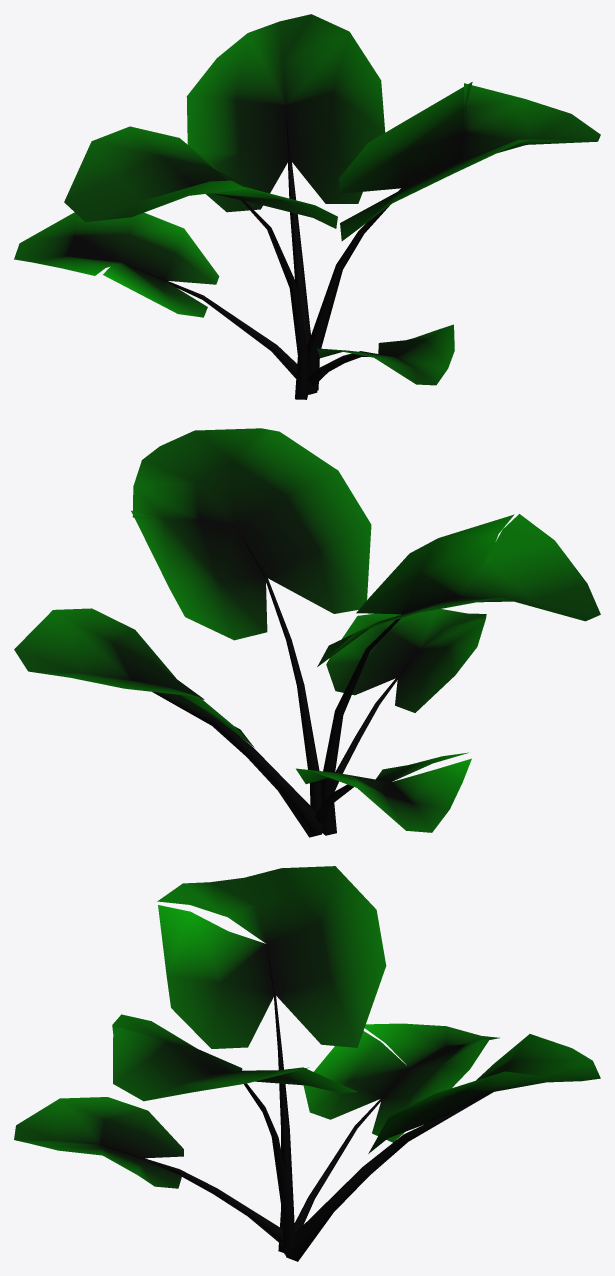
File: Alocasia02_afsTREE_xlprl08_xlod01.fbx
3 renders of one model, top to bottom at view 1: azimuth 30°, elevation 25°; view 2: azimuth 150°, elevation 25°; view 3: azimuth 270°, elevation 25°, orthographic. The views are drawn at different scales.
Parts seen in each view (by area): view 1: alocasia_xw02_xt03_xlp02_xp06.001, trunk_xw06_xt05_xlp05_xp07, alocasia_xw04_xt05_xlp04, alocasia_xw03_xt04_xlp02_xp10, alocasia_xw02_xt03_xlp02_xp06; view 2: trunk_xw06_xt05_xlp05_xp07, alocasia_xw04_xt05_xlp04, alocasia_xw02_xt03_xlp02_xp06.001, alocasia_xw02_xt03_xlp02_xp06, alocasia_xw03_xt04_xlp02_xp10; view 3: alocasia_xw04_xt05_xlp04, alocasia_xw03_xt04_xlp02_xp10, trunk_xw06_xt05_xlp05_xp07, alocasia_xw02_xt03_xlp02_xp06, alocasia_xw02_xt03_xlp02_xp06.001.
Boxes of the visible parts, x1,y1,x2,y2 form: alocasia_xw02_xt03_xlp02_xp06.001: (186,14,385,394); trunk_xw06_xt05_xlp05_xp07: (307,82,600,392); alocasia_xw04_xt05_xlp04: (64,126,337,399); alocasia_xw03_xt04_xlp02_xp10: (14,212,297,378); alocasia_xw02_xt03_xlp02_xp06: (307,324,454,386); trunk_xw06_xt05_xlp05_xp07: (131,428,371,828); alocasia_xw04_xt05_xlp04: (317,514,600,835); alocasia_xw02_xt03_xlp02_xp06.001: (14,608,322,837); alocasia_xw02_xt03_xlp02_xp06: (326,609,486,791); alocasia_xw03_xt04_xlp02_xp10: (296,752,471,832); alocasia_xw04_xt05_xlp04: (157,866,386,1252); alocasia_xw03_xt04_xlp02_xp10: (294,1023,499,1232); trunk_xw06_xt05_xlp05_xp07: (112,1014,357,1254); alocasia_xw02_xt03_xlp02_xp06: (14,1097,283,1245); alocasia_xw02_xt03_xlp02_xp06.001: (285,1034,600,1261).
Bounding box in the file's own units: 1.62 × 1.71 × 0.9544.
